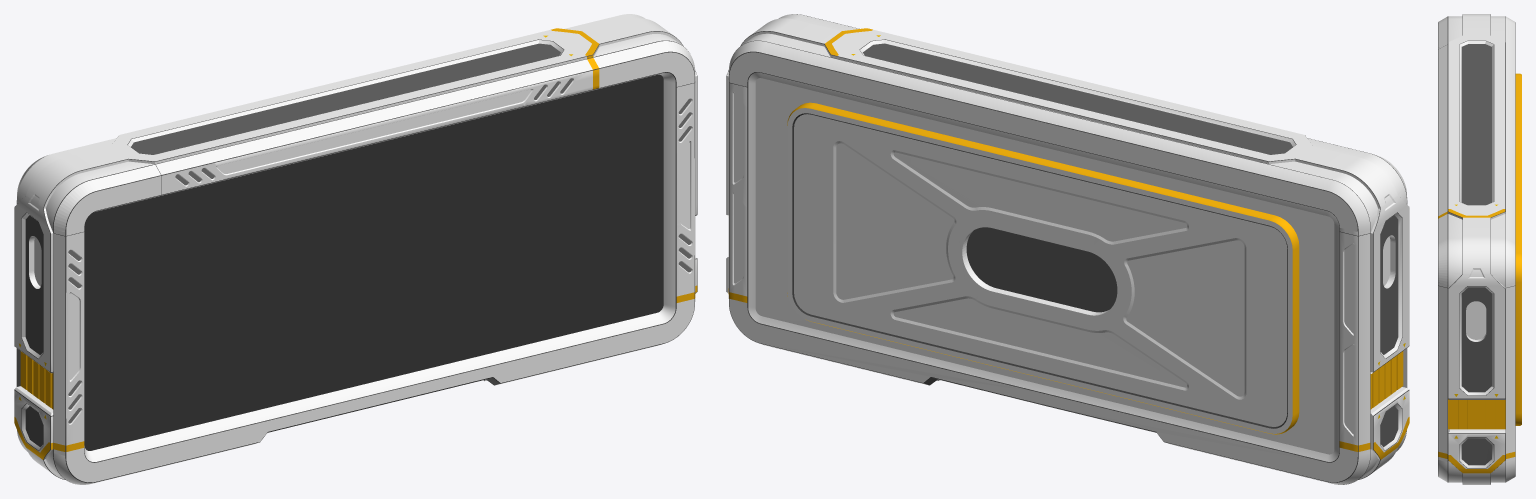
The model's file is screen.glb.
3 renders of one model, left to right at view 1: azimuth 30°, elevation 25°; view 2: azimuth 150°, elevation 25°; view 3: azimuth 270°, elevation 25°, orthographic. The views are drawn at different scales.
Visible parts, largest first — view 1: pingmu-06, pingmu-03, pingmu-05; view 2: pingmu-02, pingmu-00, pingmu-03, pingmu-05; view 3: pingmu-03, pingmu-00, pingmu-02, pingmu-04.
Boxes of the visible parts, x1,y1,x2,y2 form: pingmu-06: (84,74,663,450); pingmu-03: (14,14,697,484); pingmu-05: (20,351,53,409); pingmu-02: (787,102,1299,434); pingmu-00: (728,40,1370,484); pingmu-03: (726,14,1409,479); pingmu-05: (1370,351,1403,409); pingmu-03: (1438,14,1505,484); pingmu-00: (1505,16,1515,482); pingmu-02: (1515,73,1521,425); pingmu-04: (1448,399,1505,429).
Size of the model in its own units: 0.1128 by 0.0516 by 0.016.
